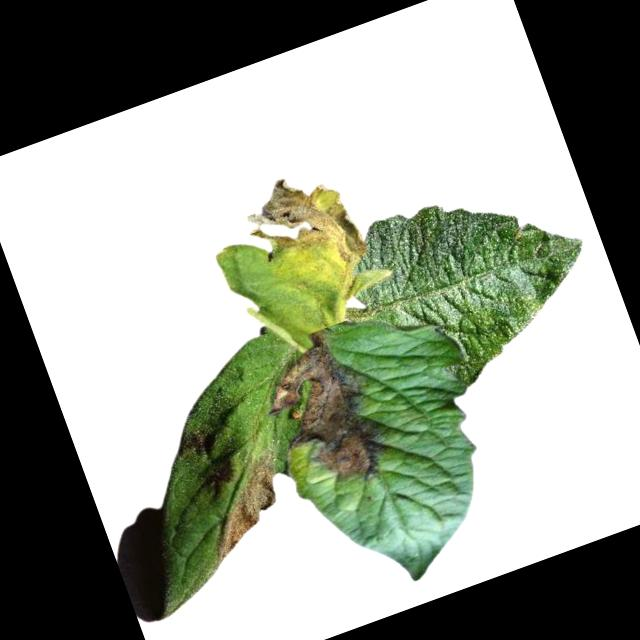Late_blight: (248, 319, 398, 502), (235, 159, 382, 324), (186, 446, 305, 567), (172, 427, 211, 465)
healthy: (332, 156, 612, 412)
